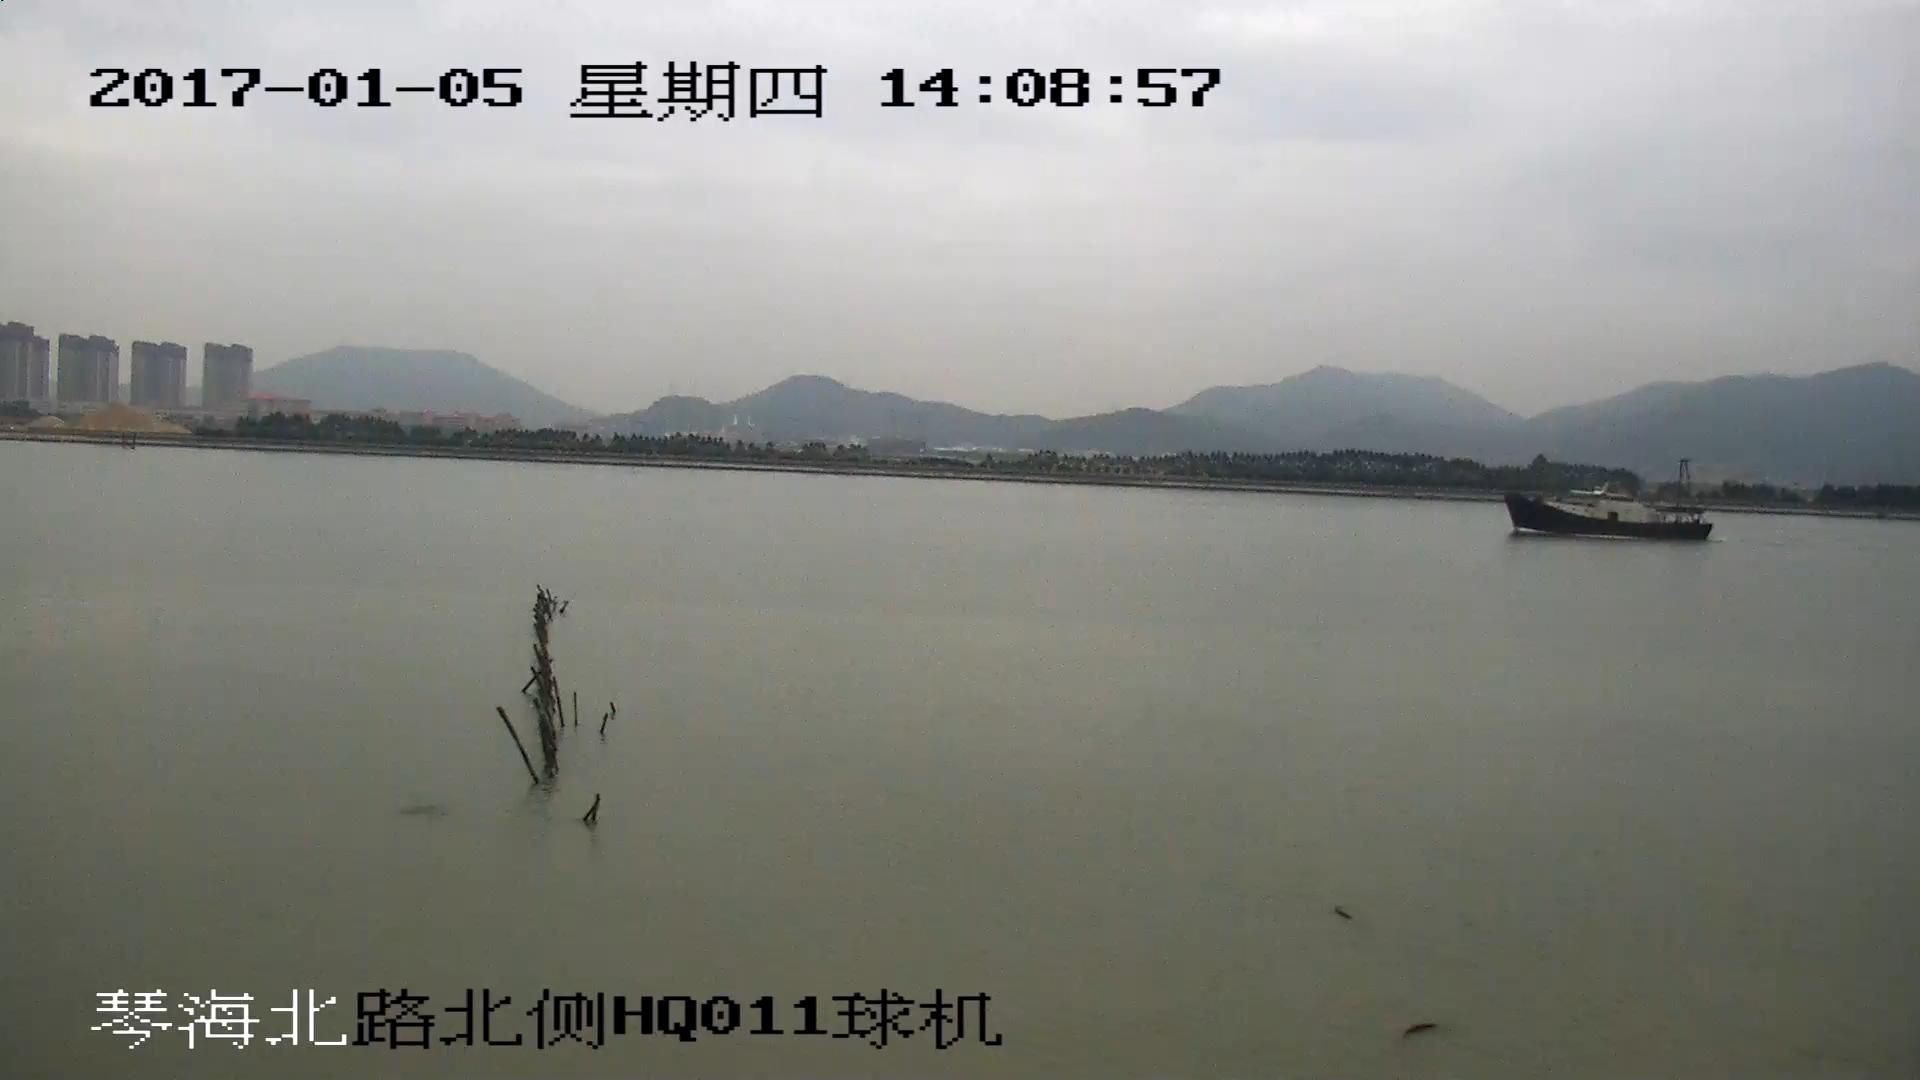fishing boat: (1506, 458, 1712, 539)
